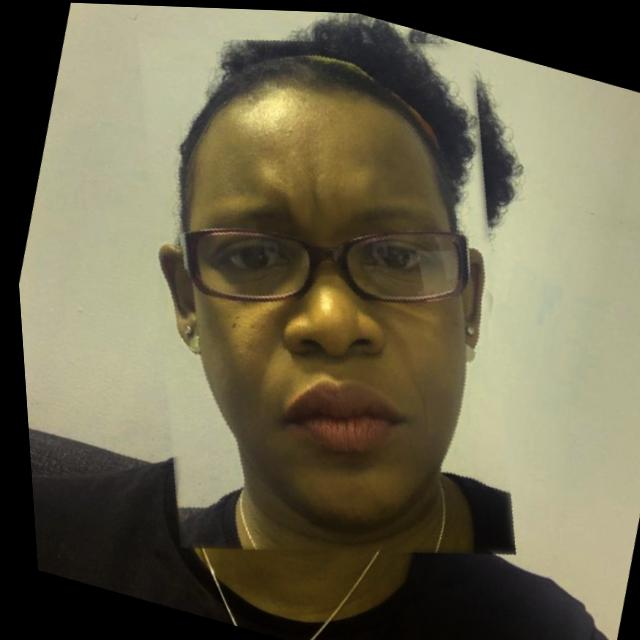sad: (50, 1, 597, 612)
